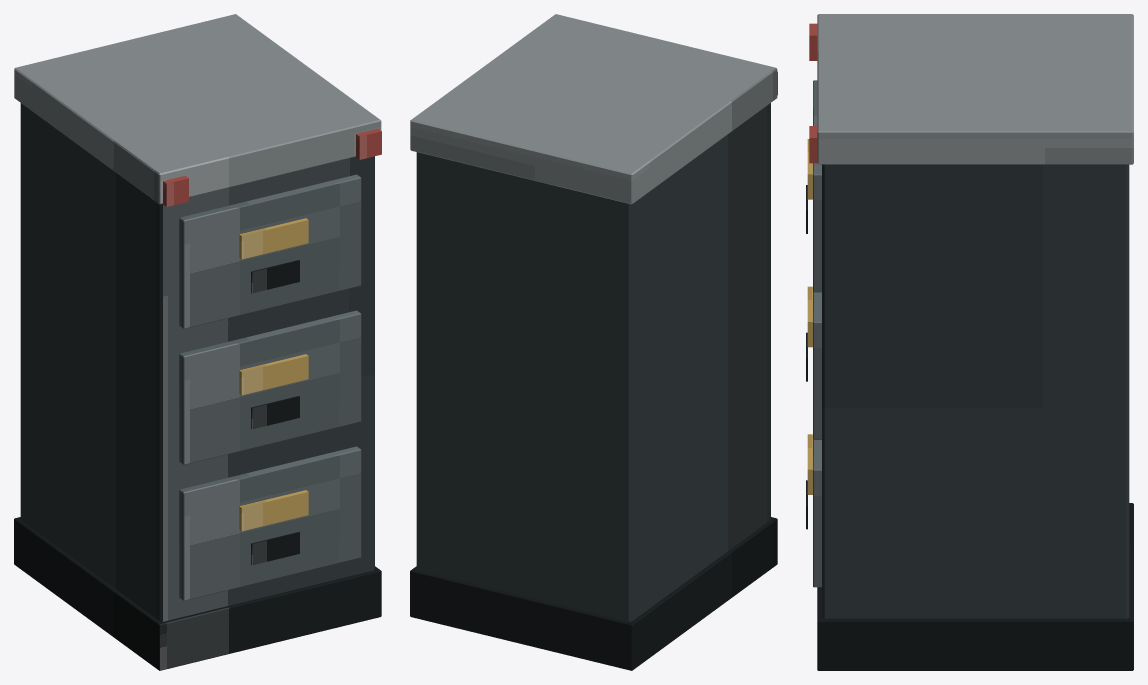
File: filing_cabinet.glb
The picture shows the model from 3 angles, left to right: view 1: azimuth 30°, elevation 25°; view 2: azimuth 150°, elevation 25°; view 3: azimuth 270°, elevation 25°; orthographic projection. The views are drawn at different scales.
Visible parts, largest first — view 1: FileBody, FileTop, FileBase, FileDrawer_3, FileDrawer_2, FileDrawer_1, FileHandle_3, FileHandle_2, FileHandle_1, LabelSlot_2, LabelSlot_3, LabelSlot_1 (+2 smaller); view 2: FileBody, FileTop, FileBase; view 3: FileBody, FileTop, FileBase, FileDrawer_3, FileDrawer_1, FileDrawer_2.
Part boxes in pixels (x1=…): FileBody: x1=20, y1=103, x2=374, y2=621; FileTop: x1=14, y1=14, x2=381, y2=204; FileBase: x1=14, y1=517, x2=381, y2=670; FileDrawer_3: x1=179, y1=174, x2=361, y2=328; FileDrawer_2: x1=179, y1=310, x2=361, y2=464; FileDrawer_1: x1=179, y1=446, x2=361, y2=600; FileHandle_3: x1=239, y1=218, x2=308, y2=259; FileHandle_2: x1=239, y1=354, x2=308, y2=395; FileHandle_1: x1=239, y1=490, x2=308, y2=531; LabelSlot_2: x1=251, y1=396, x2=299, y2=429; LabelSlot_3: x1=251, y1=260, x2=299, y2=293; LabelSlot_1: x1=251, y1=532, x2=299, y2=565; FileBody: x1=416, y1=103, x2=770, y2=621; FileTop: x1=410, y1=14, x2=777, y2=204; FileBase: x1=410, y1=517, x2=777, y2=670; FileBody: x1=822, y1=164, x2=1129, y2=618; FileTop: x1=817, y1=14, x2=1133, y2=164; FileBase: x1=817, y1=503, x2=1133, y2=670; FileDrawer_3: x1=813, y1=80, x2=821, y2=292; FileDrawer_1: x1=813, y1=439, x2=821, y2=587; FileDrawer_2: x1=813, y1=292, x2=821, y2=439.
Size of the model in its own units: 0.6 by 1.28 by 0.704.
Materials: 1 (1 with a texture image).
